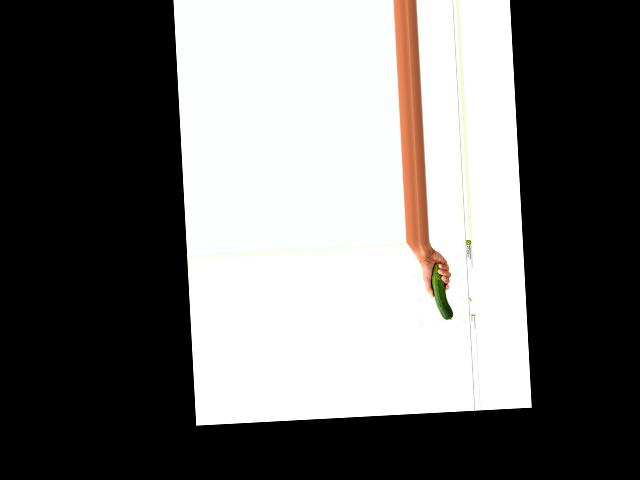cucumber: (431, 262, 453, 320)
